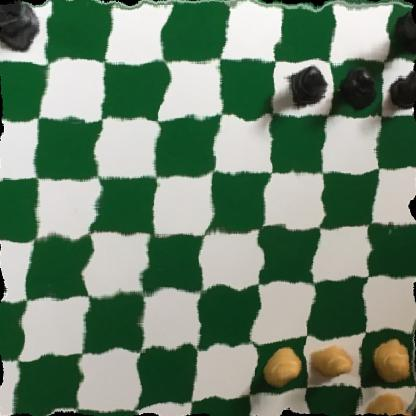black-pawn: (279, 65, 330, 109), (332, 68, 380, 111), (389, 67, 416, 110)
black-rook: (0, 0, 45, 47), (395, 0, 416, 54)
white-pawn: (367, 337, 416, 384), (308, 341, 360, 383), (258, 343, 304, 387)
white-rook: (362, 388, 416, 416)
